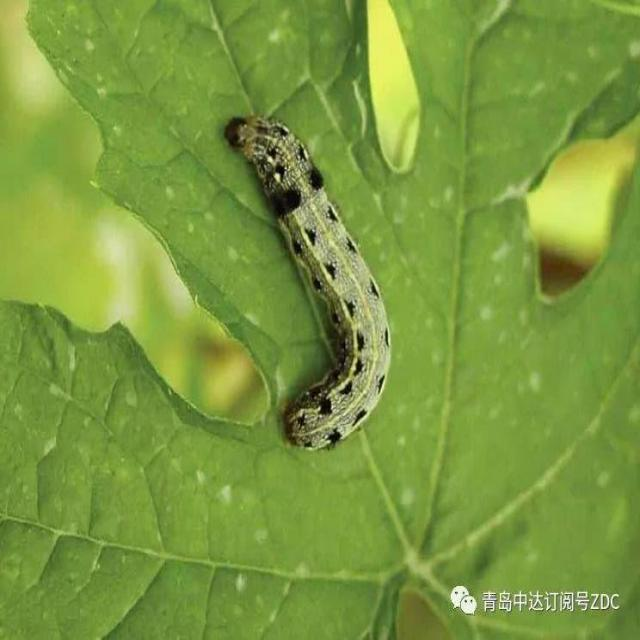BeetArmyWorm-Larva-: (224, 105, 405, 460)
